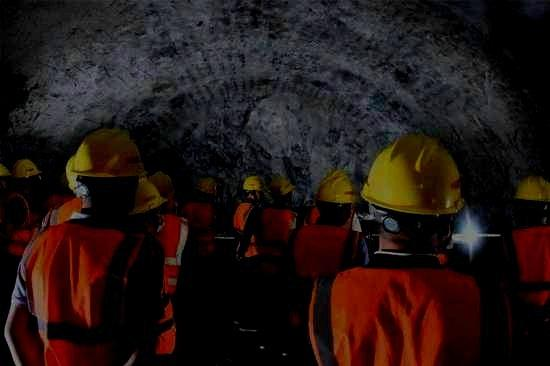helmet: (360, 135, 465, 254), (71, 127, 145, 220), (125, 178, 169, 234), (314, 177, 355, 223), (512, 174, 549, 224), (147, 171, 175, 211), (10, 158, 42, 193), (66, 152, 83, 197), (269, 176, 294, 206), (242, 175, 265, 204), (321, 169, 352, 187), (195, 176, 217, 201), (55, 171, 72, 194), (1, 162, 11, 194)
